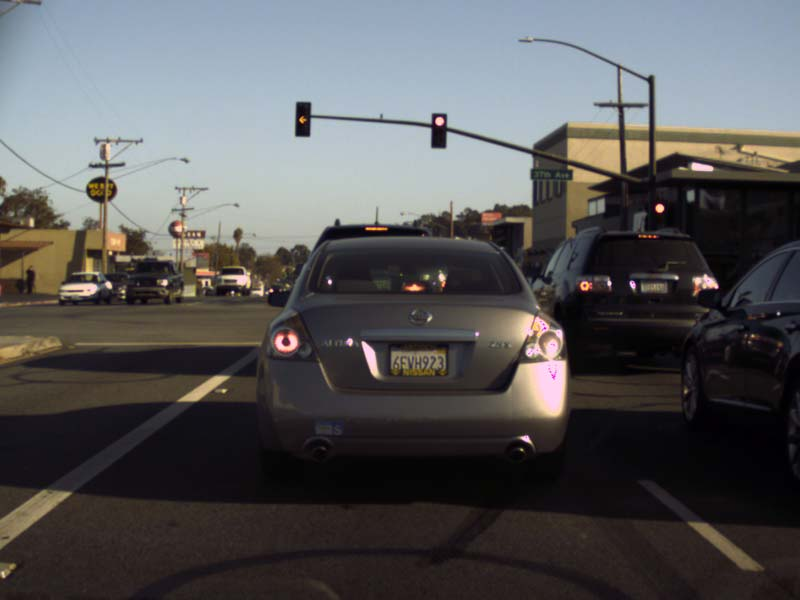Red: (431, 112, 446, 147), (653, 200, 665, 230)
Yellow: (295, 102, 310, 136)
